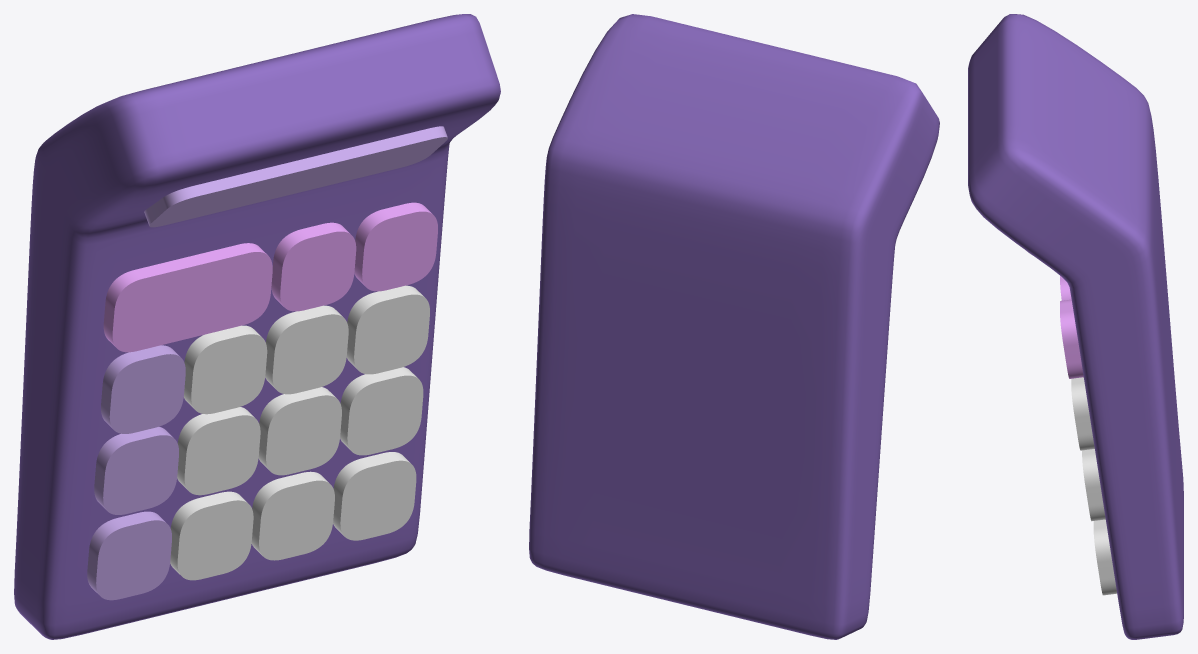
Rendered from Calculator.gltf.
3 renders of one model, left to right at view 1: azimuth 30°, elevation 25°; view 2: azimuth 150°, elevation 25°; view 3: azimuth 270°, elevation 25°, orthographic. The views are drawn at different scales.
Parts seen in each view (by area): view 1: Cube, Buffer Object (×9), Rectangle 7, Rectangle 2, Rectangle 6, Rectangle 3, Rectangle 5, Rectangle 8, Rectangle 4; view 2: Cube; view 3: Cube, Buffer Object (×3), Rectangle 8.
Part boxes in pixels (left/top/right/bottom): Cube: left=14, top=14, right=500, bottom=639; Buffer Object (×9): left=170, top=285, right=429, bottom=580; Rectangle 7: left=103, top=243, right=272, bottom=352; Rectangle 2: left=144, top=126, right=447, bottom=227; Rectangle 6: left=271, top=222, right=356, bottom=311; Rectangle 3: left=87, top=511, right=171, bottom=600; Rectangle 5: left=101, top=345, right=185, bottom=433; Rectangle 8: left=354, top=202, right=437, bottom=291; Rectangle 4: left=94, top=427, right=178, bottom=514; Cube: left=529, top=14, right=939, bottom=639; Cube: left=968, top=14, right=1183, bottom=639; Buffer Object (×3): left=1071, top=377, right=1116, bottom=595; Rectangle 8: left=1060, top=299, right=1083, bottom=378.
Size of the model in its own units: 0.95 by 1.44 by 0.5734.
